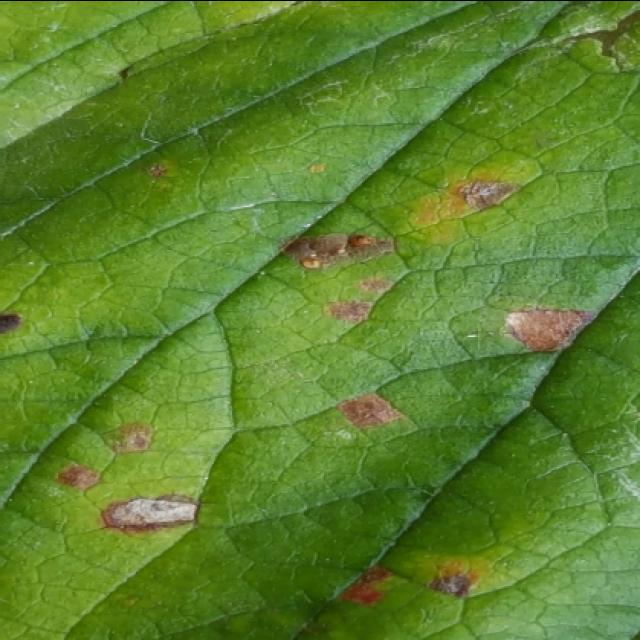Angular Leafspot: (0, 136, 607, 638)
